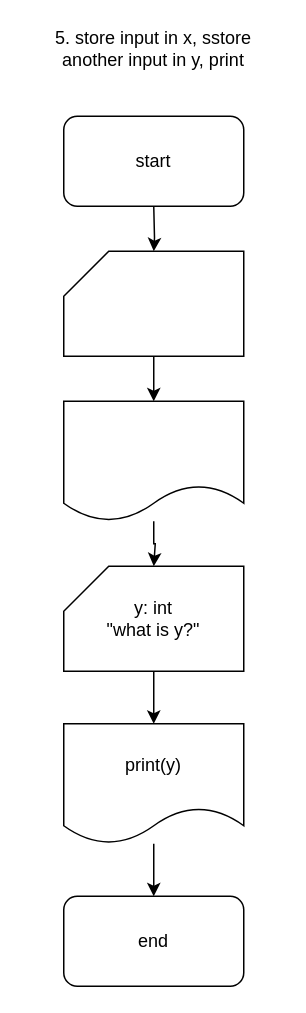
The diagram is 306 pixels wide and 1013 high, and some of its shapes have lost their labels. The centre of each missing label's shape, as x and y in pixels:
print(x): point 153,460
x: int "what is x?": point 153,303
